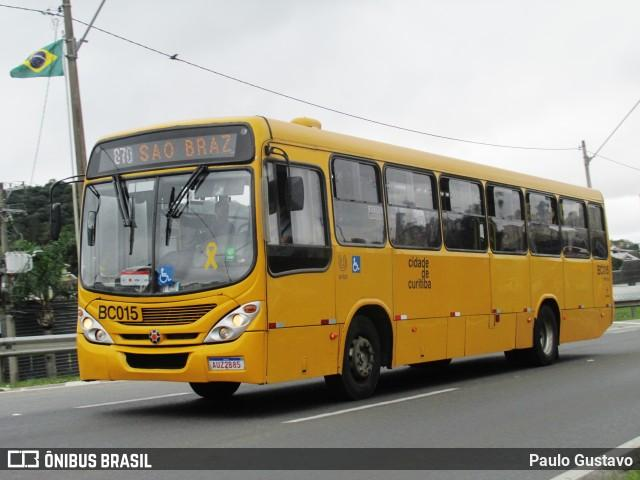SAO BRAZ: (136, 132, 237, 165)
